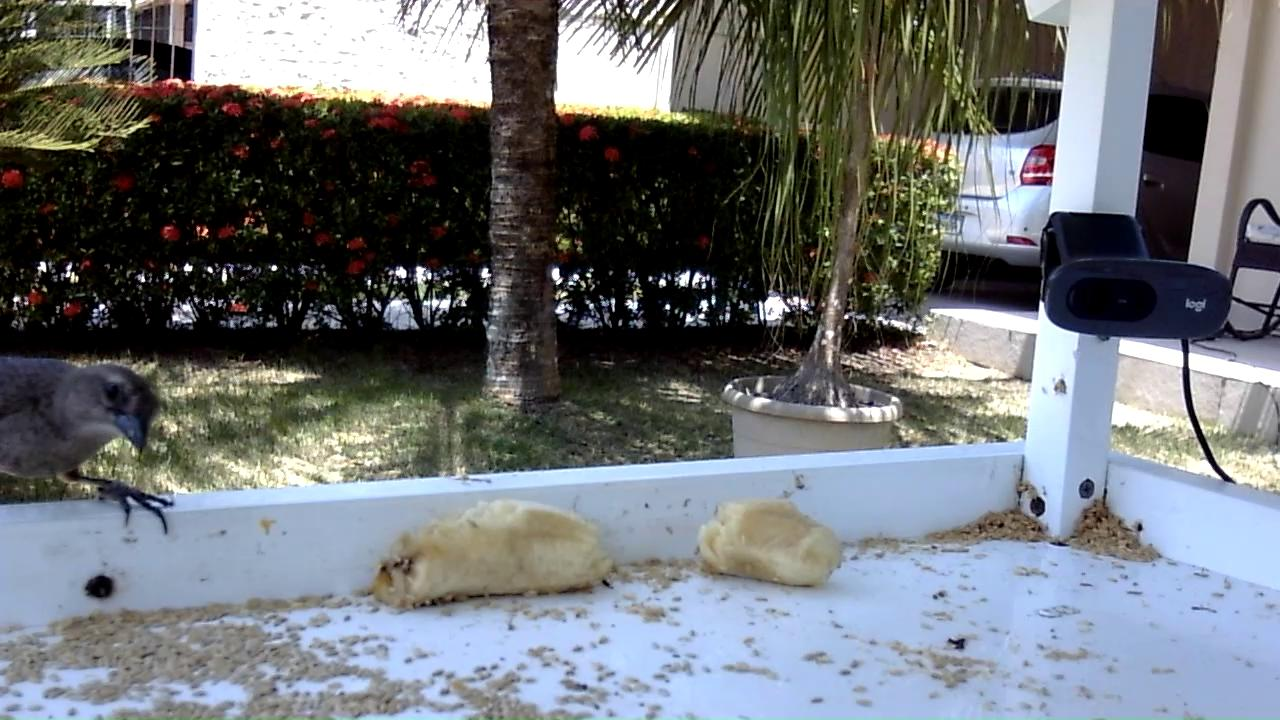chupim: (1, 354, 181, 543)
